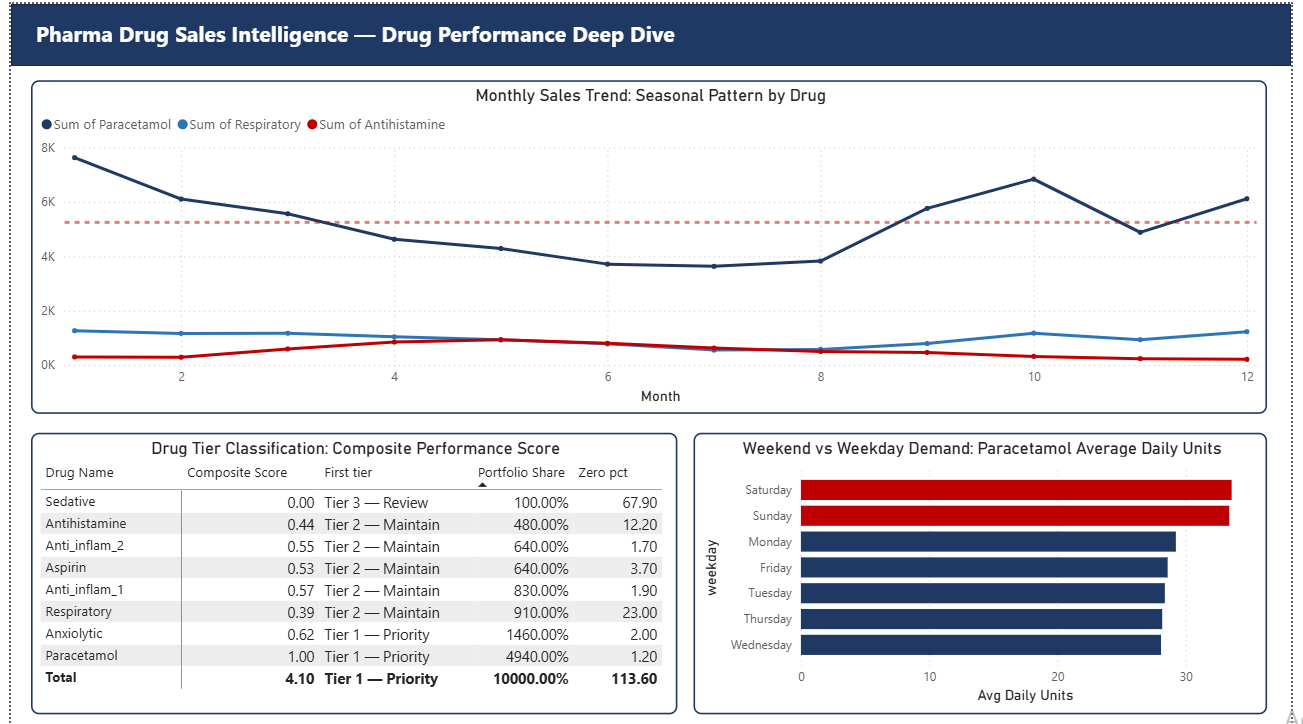

The page's visual inventory and layout, read from the dashboard file:
{"tool":"powerbi","page":{"name":"Drug Performance Deep Dive","canvas":[1280,720],"ordinal":1},"visuals":[{"type":"shape","box":[0,0,1280,62],"z":0},{"type":"textbox","box":[20,10,1236.2,40],"z":1000},{"type":"lineChart","title":"Monthly Sales Trend: Seasonal Pattern by Drug","fields":{"Category":["monthly_sales.Month"],"Y":["Sum(monthly_sales.analgesic_paracetamol)","Sum(monthly_sales.respiratory)","Sum(monthly_sales.antihistamine)"]},"box":[20,76.2,1236.2,333.8],"z":2000},{"type":"barChart","title":"Weekend vs Weekday Demand: Paracetamol Average Daily Units","fields":{"Category":["weekly_sales.weekday"],"Y":["Sum(weekly_sales.analgesic_paracetamol)"]},"box":[682.5,428.8,573.8,281.2],"z":3000},{"type":"pivotTable","title":"Drug Tier Classification: Composite Performance Score","fields":{"Rows":["drug_profile.drug_name"],"Values":["Sum(drug_profile.composite_score)","Min(drug_profile.tier)","Sum(drug_profile.portfolio_share)","Sum(drug_profile.zero_pct)"]},"box":[20,428.8,646.2,281.2],"z":4000}]}

Visuals, with their boxes in screenshot pixels (x1, y1, x2, y2), scaled from the page's 1280x720 canvas onto the 1303x724 screenshot:
shape: pyautogui.locateOnScreen(0, 0, 1302, 62)
textbox: pyautogui.locateOnScreen(20, 10, 1279, 50)
"Monthly Sales Trend: Seasonal Pattern by Drug" lineChart: pyautogui.locateOnScreen(20, 77, 1279, 412)
"Weekend vs Weekday Demand: Paracetamol Average Daily Units" barChart: pyautogui.locateOnScreen(695, 431, 1279, 714)
"Drug Tier Classification: Composite Performance Score" pivotTable: pyautogui.locateOnScreen(20, 431, 678, 714)
